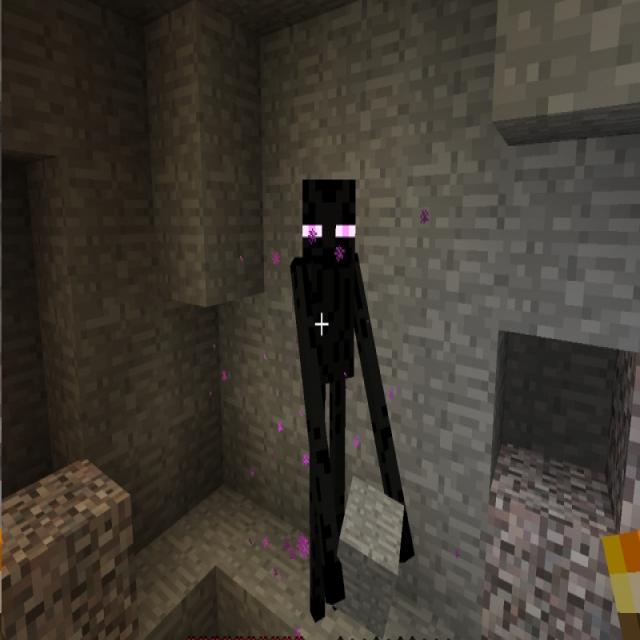Enderman: (281, 170, 416, 628)
